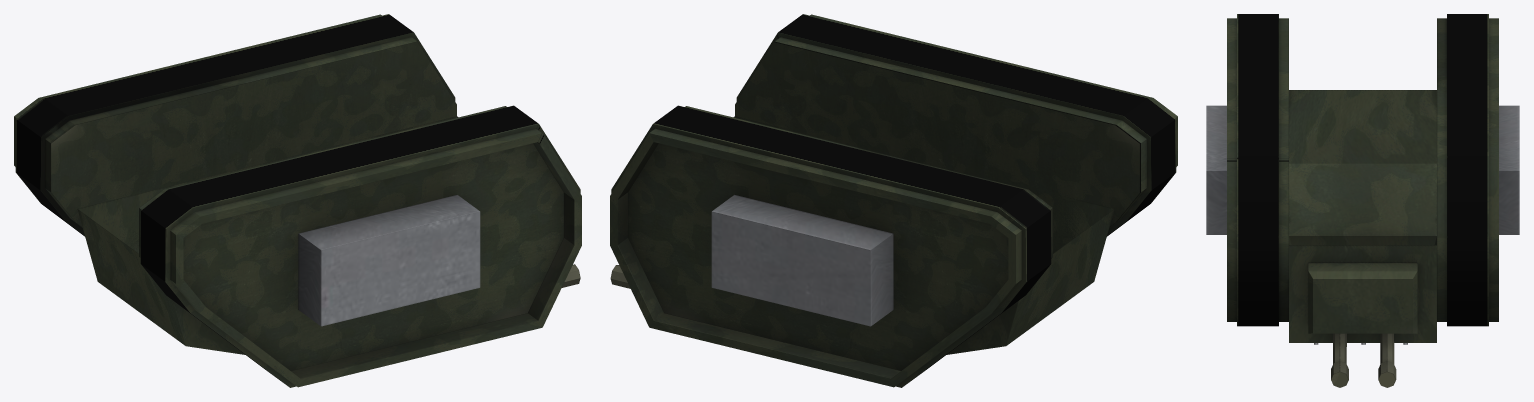
The model's file is lemun_body.FBX.
3 renders of one model, left to right at view 1: azimuth 30°, elevation 25°; view 2: azimuth 150°, elevation 25°; view 3: azimuth 270°, elevation 25°, orthographic. The views are drawn at different scales.
Parts seen in each view (by area): view 1: Box003; view 2: Box003; view 3: Box003.
Part boxes in pixels (x1=…): Box003: x1=14, y1=14, x2=581, y2=387; Box003: x1=610, y1=14, x2=1177, y2=387; Box003: x1=1206, y1=14, x2=1519, y2=387.
Bounding box in the file's own units: 101 × 50.37 × 69.55.
Materials: 1 (1 with a texture image).
